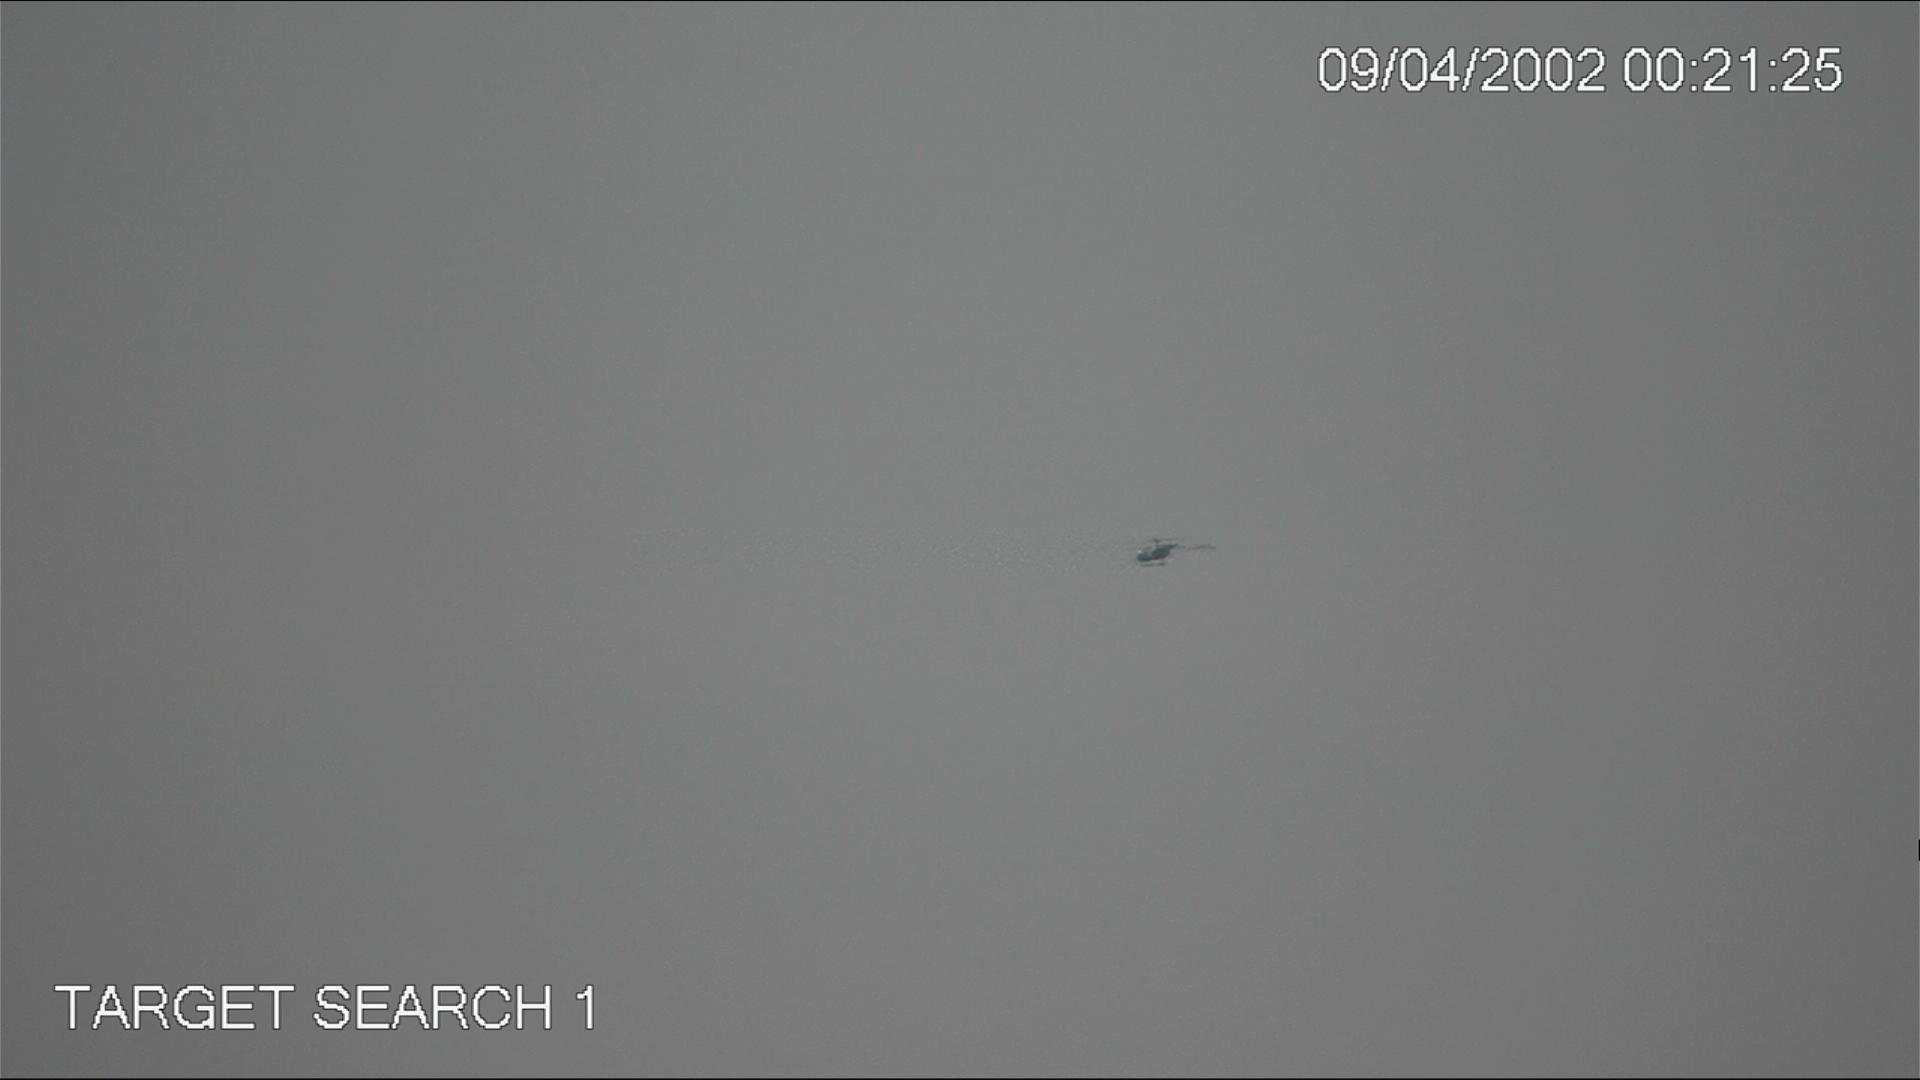SU_30: (1135, 539, 1178, 568)
